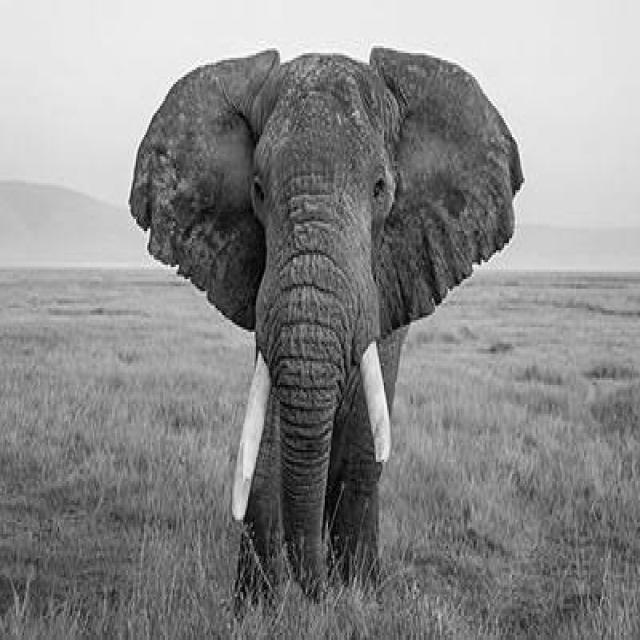Elephant: (126, 44, 524, 618)
